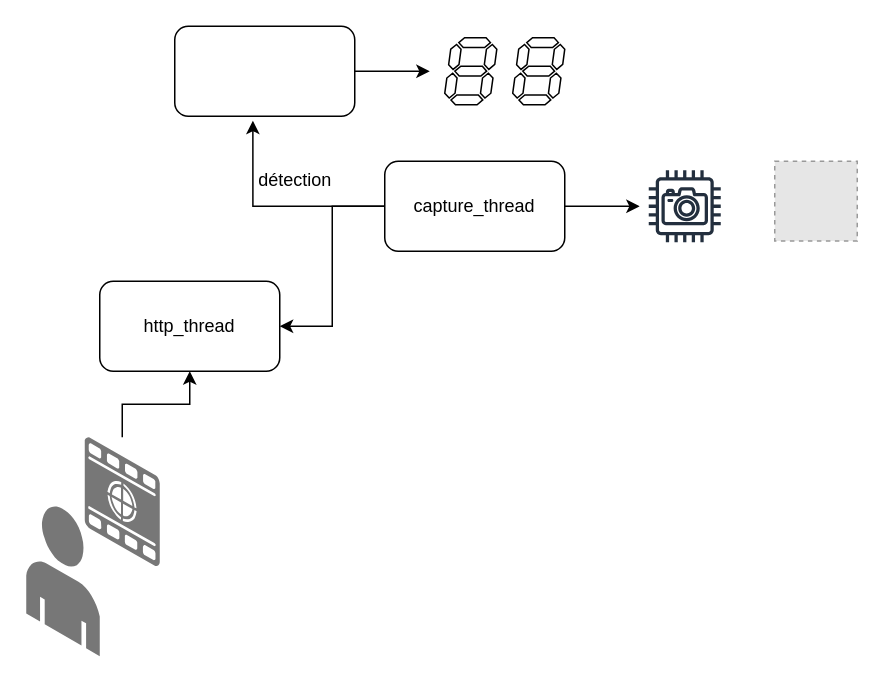
Image size: 884x683. Some labels were removed from this diagram. Grey dashed boxes stand in for pictures. The centre of each missing label's shape, as x and y in pixels:
Camera: point (684, 205)
digits_thread: point (264, 70)
